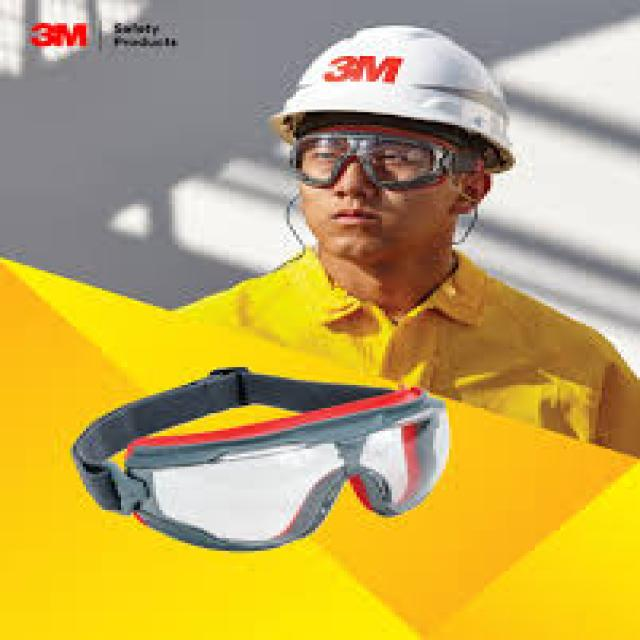glasses: (122, 386, 450, 564), (290, 133, 457, 195)
